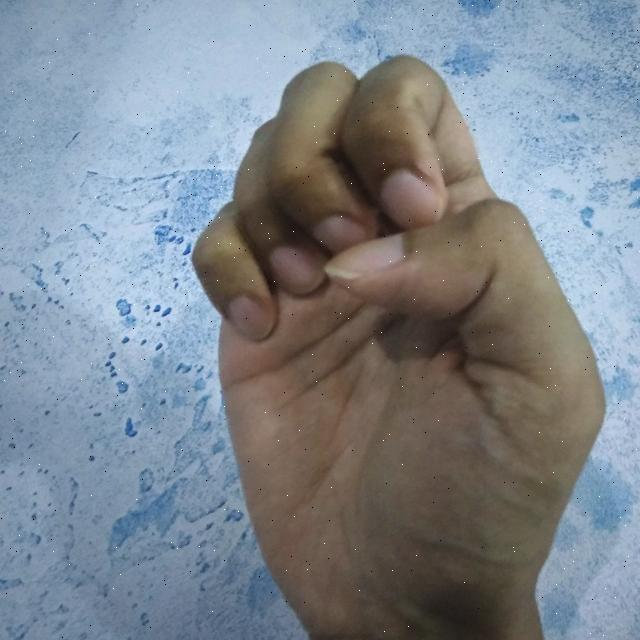E: (190, 55, 606, 640)
